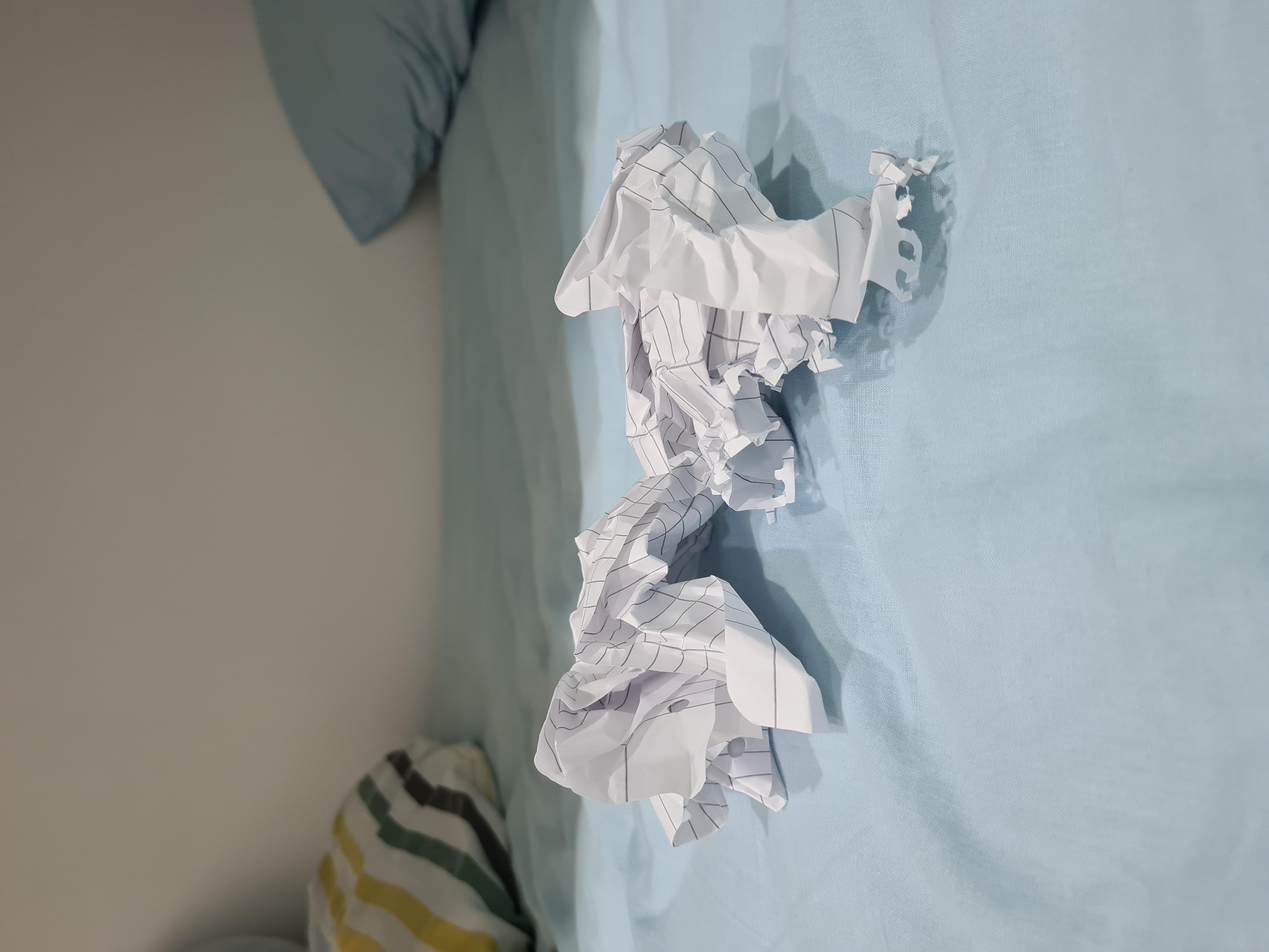paper: (622, 409, 1105, 700), (161, 392, 588, 624)
